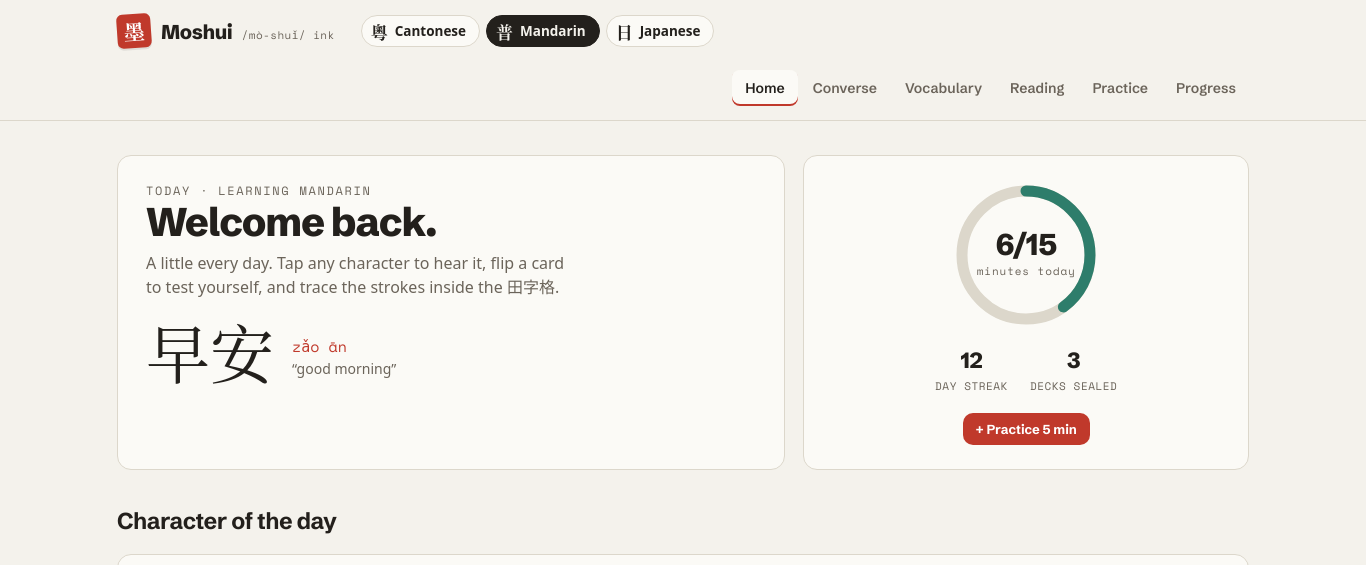
Test case: Vocabulary ↔ Render backend › shows an error when generation fails
Click the button "Vocabulary".
click(944, 88)  # box left=892, top=70, right=995, bottom=106
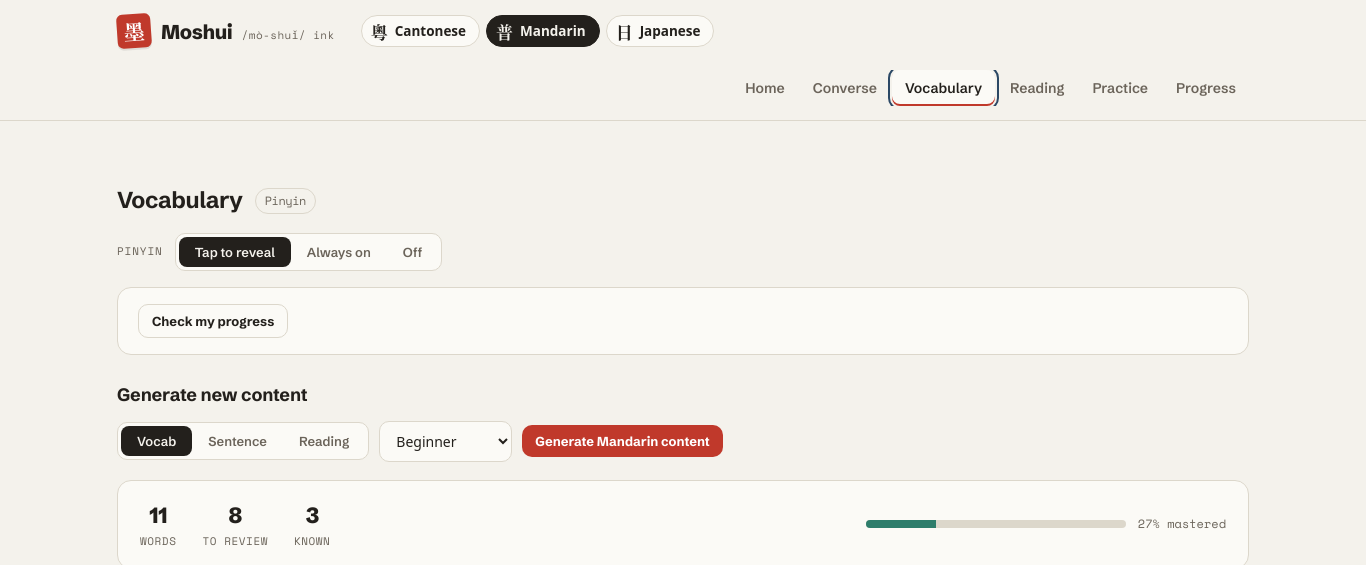
Click the button "Generate Mandarin content".
click(622, 441)  # box left=522, top=425, right=723, bottom=457
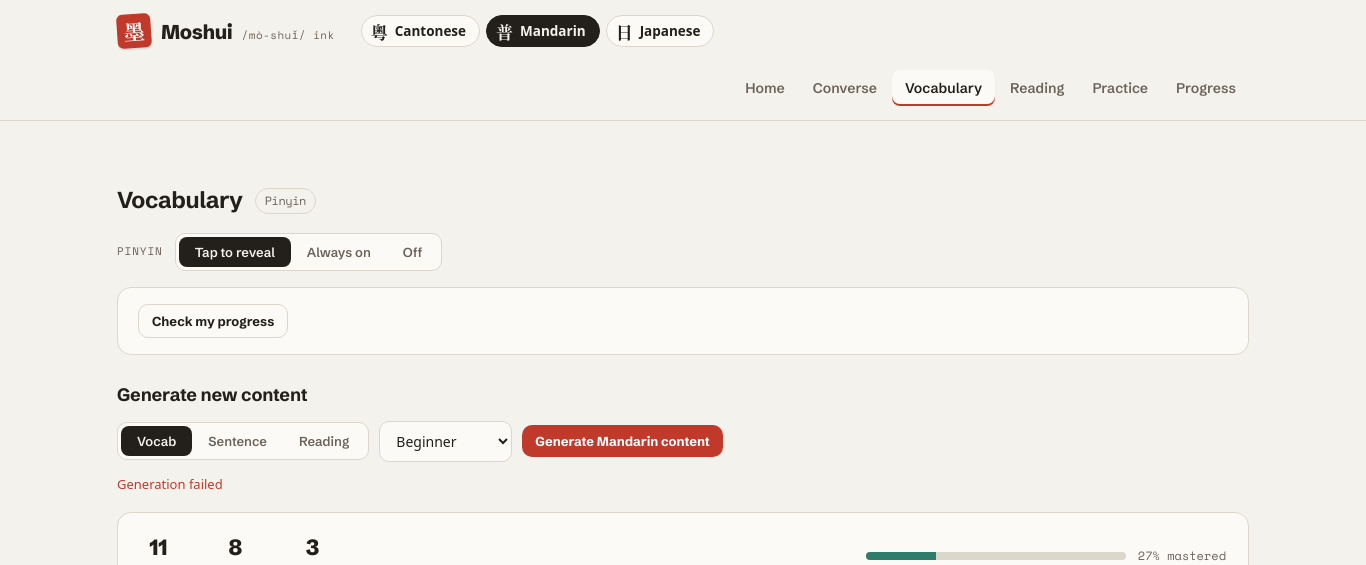
Result: the text "Generation failed" is shown at left=117, top=474, right=223, bottom=492
